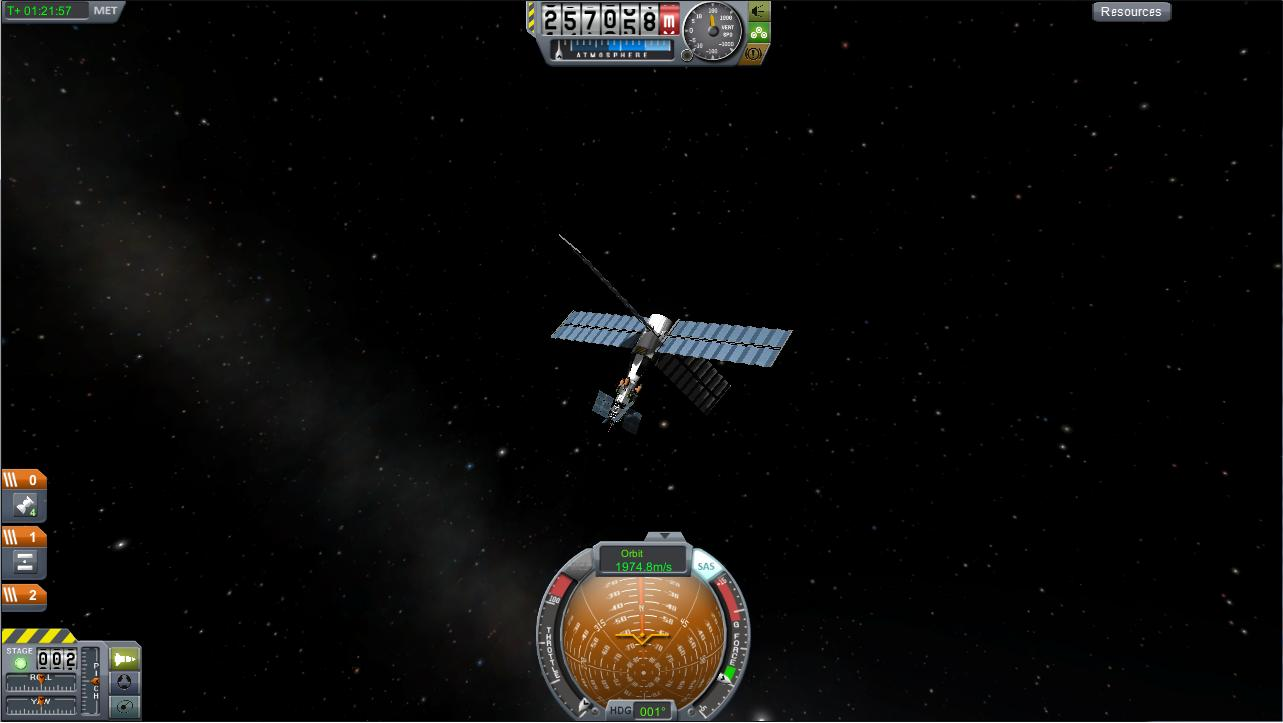body: (593, 308, 668, 427)
solar: (556, 230, 649, 329), (664, 313, 794, 374), (549, 307, 639, 343), (586, 384, 615, 420)
